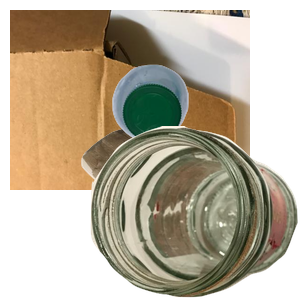cardboard: (10, 10, 250, 190)
glass: (90, 126, 300, 300)
plastic: (110, 62, 300, 198)
trash: (79, 123, 281, 300)
